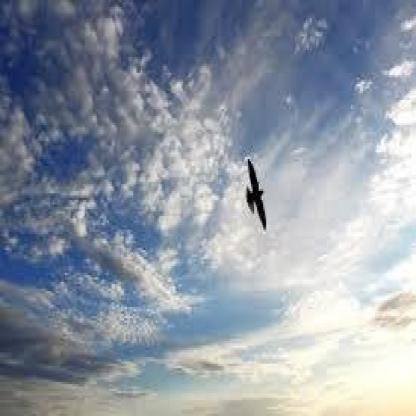bird: (239, 130, 280, 249)
